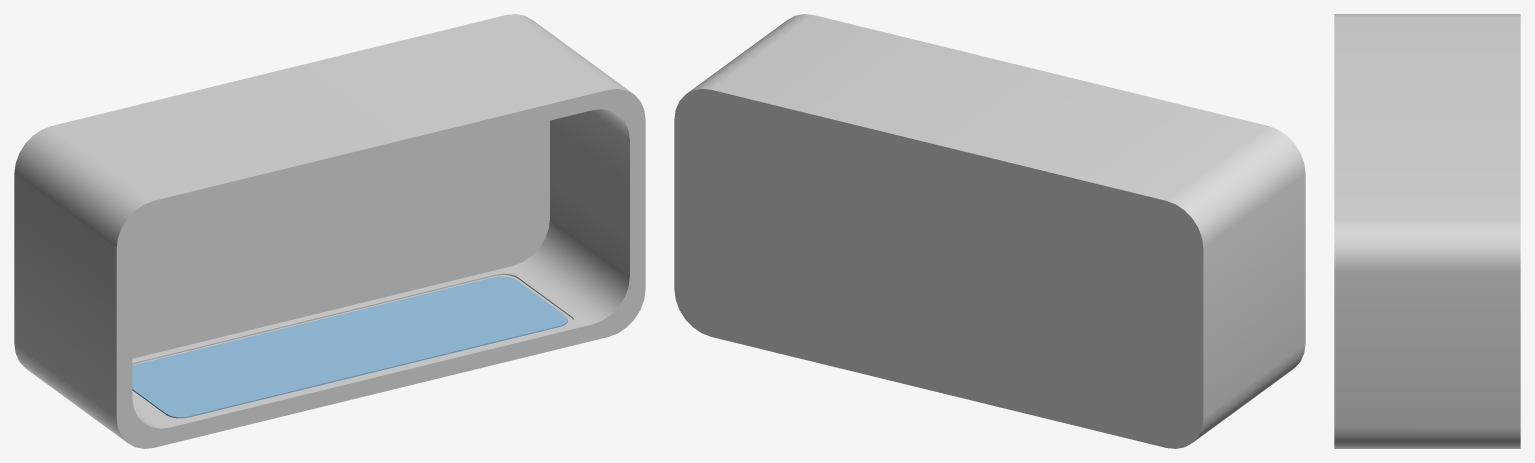
Rendered from FBX_RoundedShelves_Open.fbx.
3 renders of one model, left to right at view 1: azimuth 30°, elevation 25°; view 2: azimuth 150°, elevation 25°; view 3: azimuth 270°, elevation 25°, orthographic. The views are drawn at different scales.
Parts seen in each view (by area): view 1: Cube; view 2: Cube; view 3: Cube.
Part boxes in pixels (x1,y1,x2,y2): Cube: [14, 14, 645, 448]; Cube: [674, 14, 1305, 448]; Cube: [1334, 14, 1520, 448].
Size of the model in its own units: 134 by 60 by 45.
